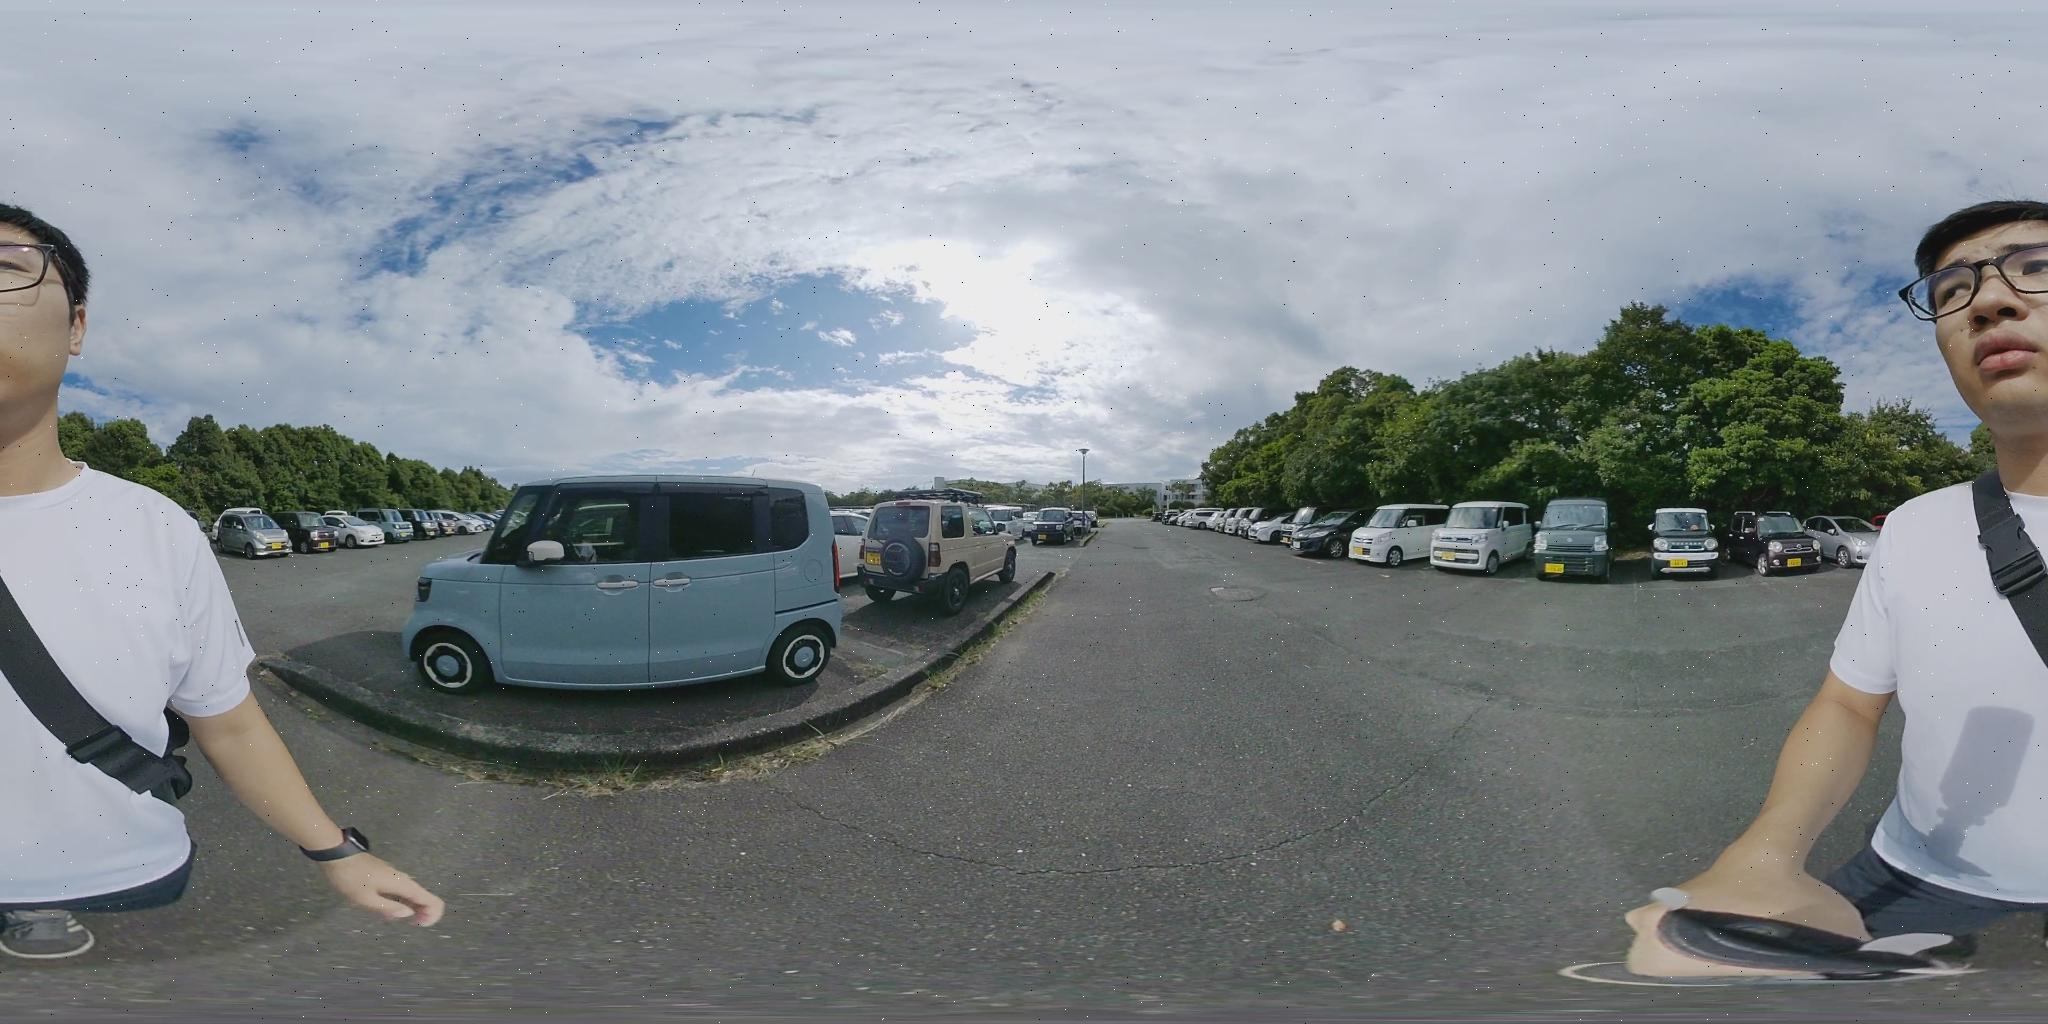car: (406, 477, 825, 691), (866, 499, 1024, 609), (1430, 499, 1527, 571), (1340, 504, 1451, 564), (1728, 509, 1818, 573), (1537, 503, 1610, 577), (1804, 515, 1886, 569), (1655, 509, 1719, 579), (213, 508, 300, 556), (1283, 512, 1357, 556), (1021, 509, 1102, 543), (1258, 515, 1332, 549), (299, 515, 357, 551), (338, 513, 398, 546), (1246, 515, 1304, 543), (372, 513, 426, 543), (968, 507, 1024, 533), (1183, 509, 1238, 534), (424, 515, 469, 536), (448, 515, 488, 536)
